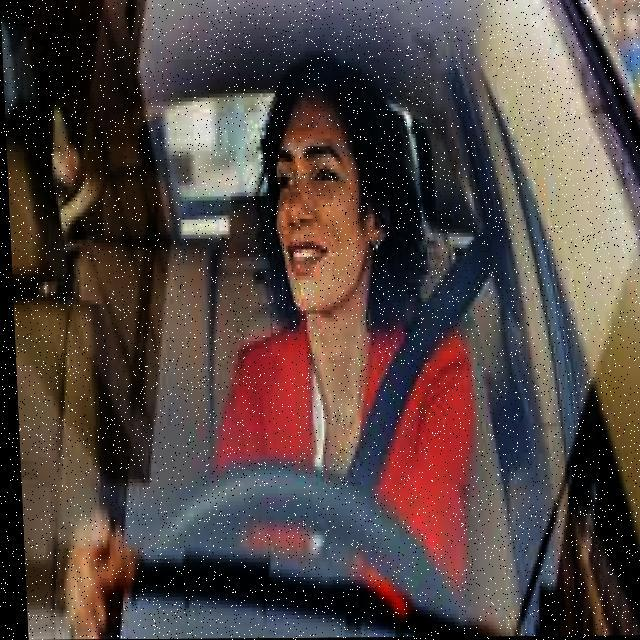seatbelt: (292, 188, 504, 512)
